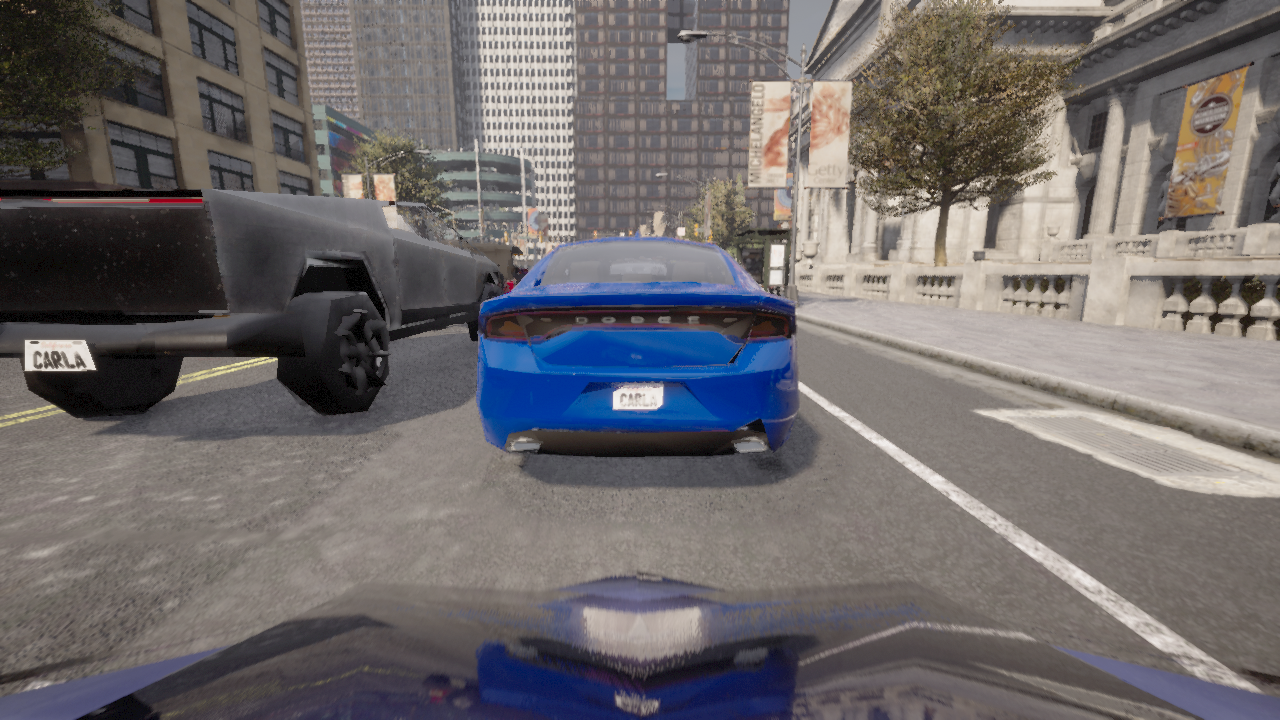cyclist: (0, 569, 1279, 719), (0, 187, 503, 416), (477, 229, 798, 457), (456, 243, 533, 324), (529, 269, 530, 270)
